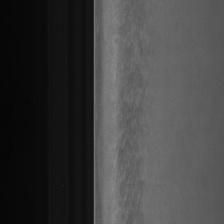silk_spot: (116, 15, 148, 207)
